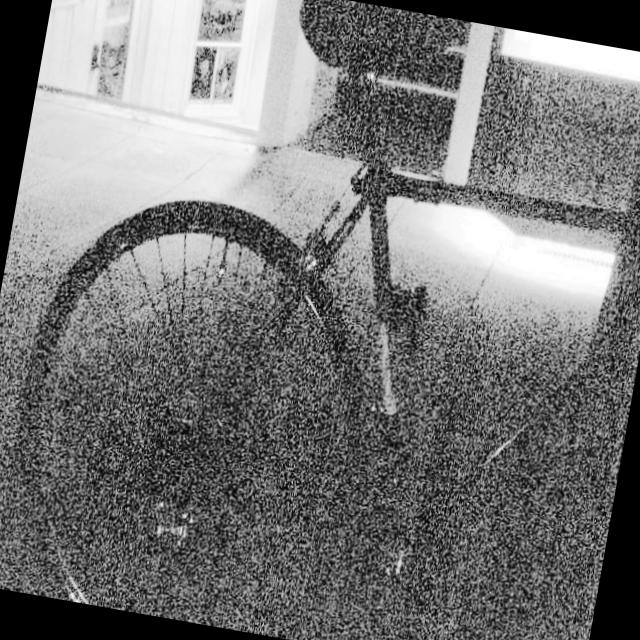Bicycle: (14, 115, 640, 640)
